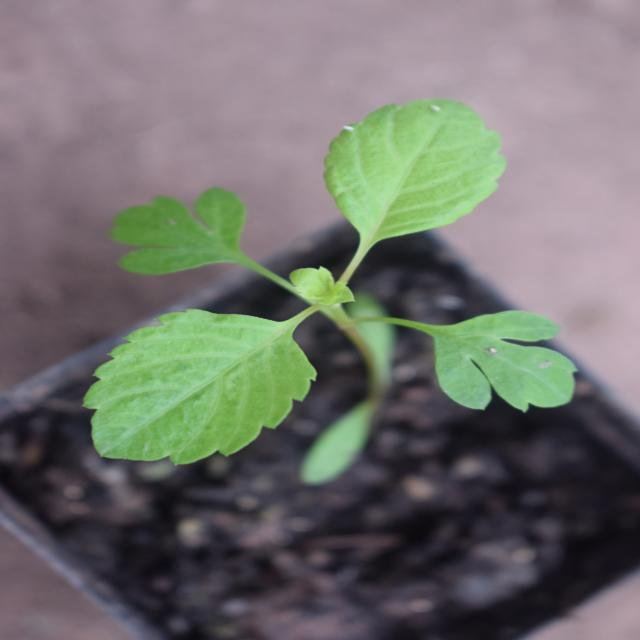Bidens pilosa: (93, 72, 473, 560)
